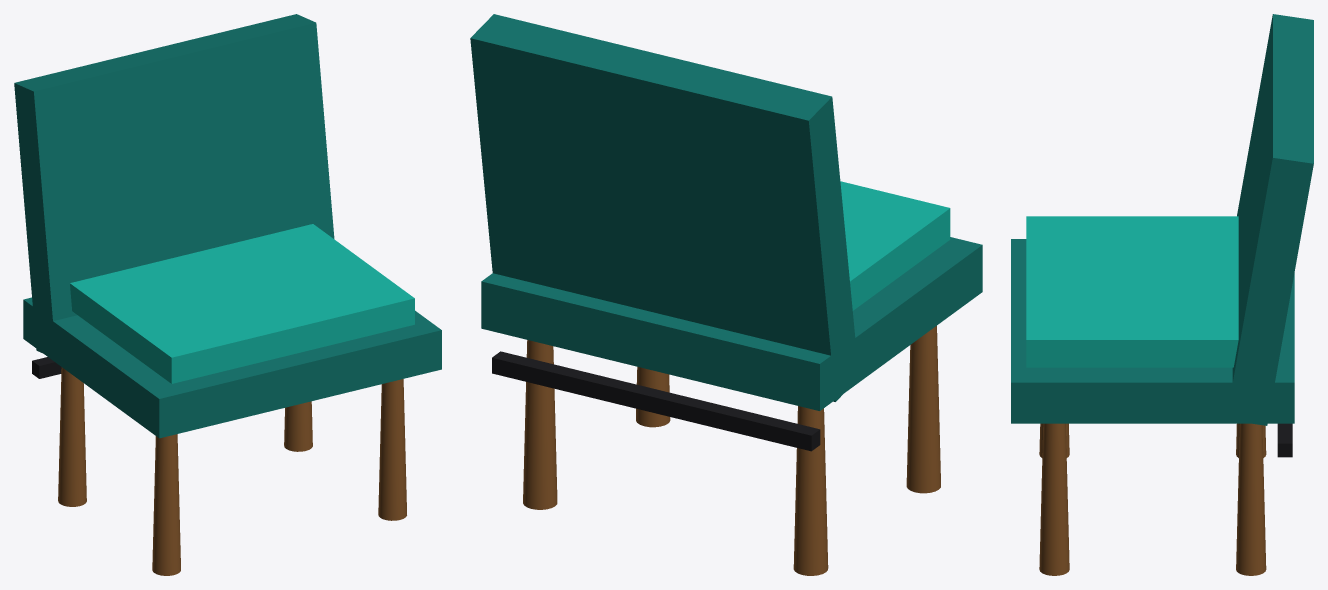
Rendered from signature-chair.glb.
3 renders of one model, left to right at view 1: azimuth 30°, elevation 25°; view 2: azimuth 150°, elevation 25°; view 3: azimuth 270°, elevation 25°, orthographic. The views are drawn at different scales.
Visible parts, largest first — view 1: Signature lounge chair; view 2: Signature lounge chair; view 3: Signature lounge chair.
Boxes of the visible parts, x1,y1,x2,y2 form: Signature lounge chair: (14, 14, 441, 575); Signature lounge chair: (470, 14, 982, 575); Signature lounge chair: (1011, 14, 1313, 575).
Size of the model in its own units: 1.8 by 2.49 by 1.6.
